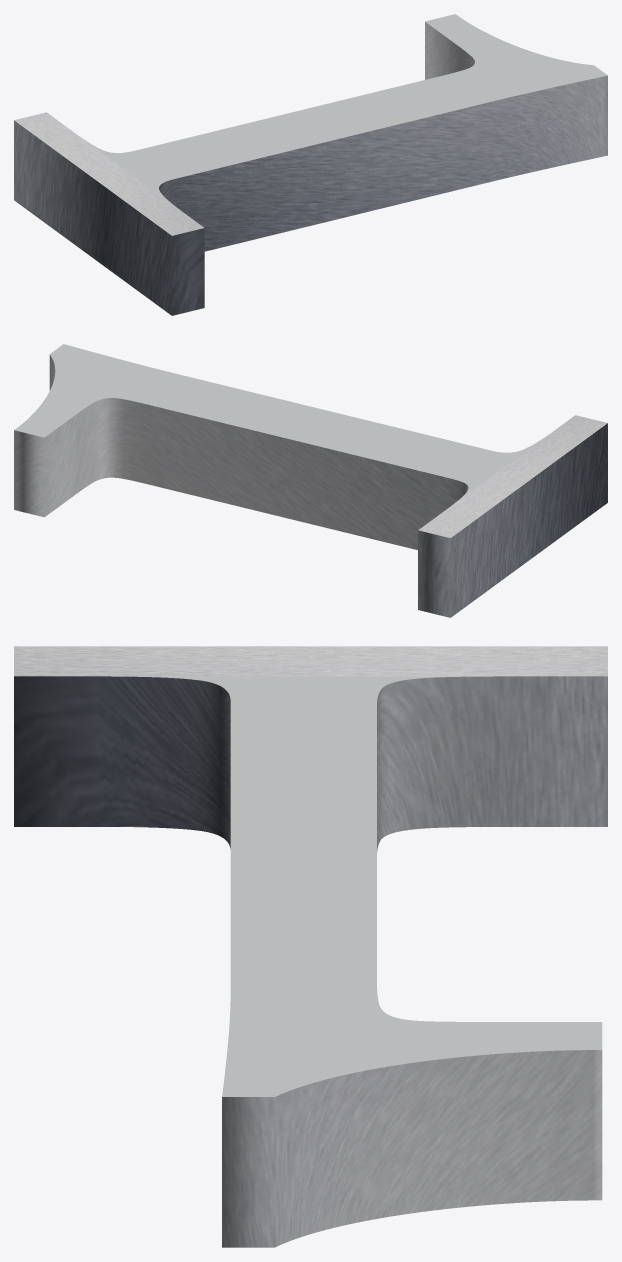
The model's file is number1.obj.
3 renders of one model, top to bottom at view 1: azimuth 30°, elevation 25°; view 2: azimuth 150°, elevation 25°; view 3: azimuth 270°, elevation 25°, orthographic. The views are drawn at different scales.
Visible parts, largest first — view 1: Text.022; view 2: Text.022; view 3: Text.022.
Part boxes in pixels (box(x1,y1,x2,y2)): Text.022: box(14, 14, 607, 315); Text.022: box(14, 344, 607, 617); Text.022: box(14, 646, 607, 1247).
Bounding box in the file's own units: 1.05 × 0.1641 × 0.5872.
